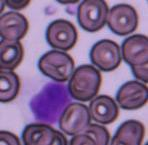L: (25, 78, 74, 126)
